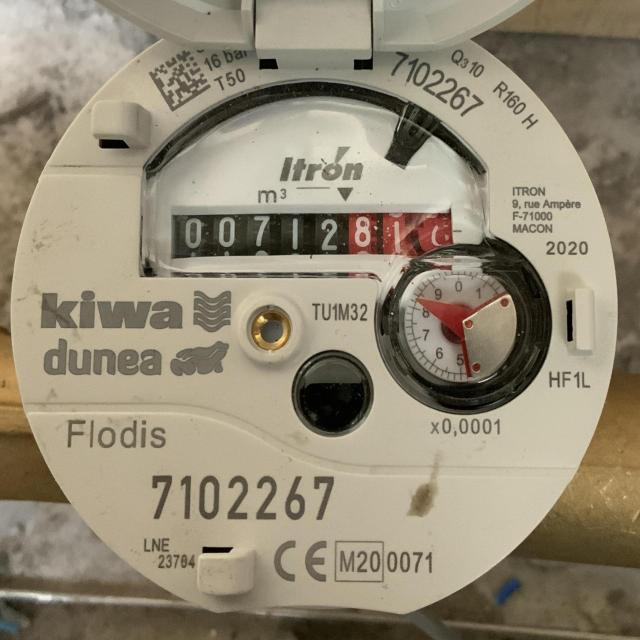gaz_meter: (9, 11, 621, 615)
indication: (170, 209, 456, 263)
